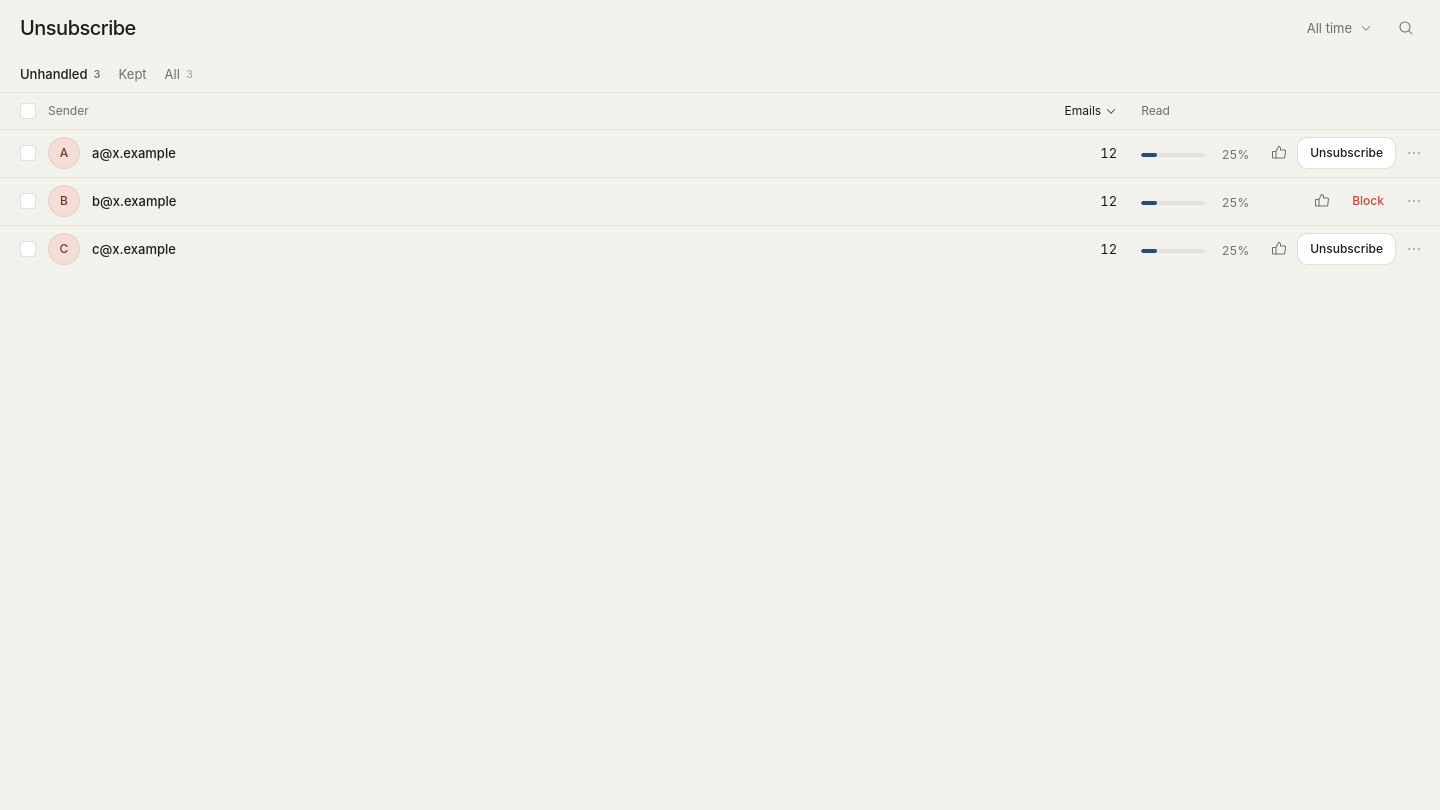
BulkUnsubscribePage › bulk-unsubscribes only the senders with a safe link, after a dialog with counts
Click the checkbox named "Select all" at (28, 111), box [20,103,36,119]
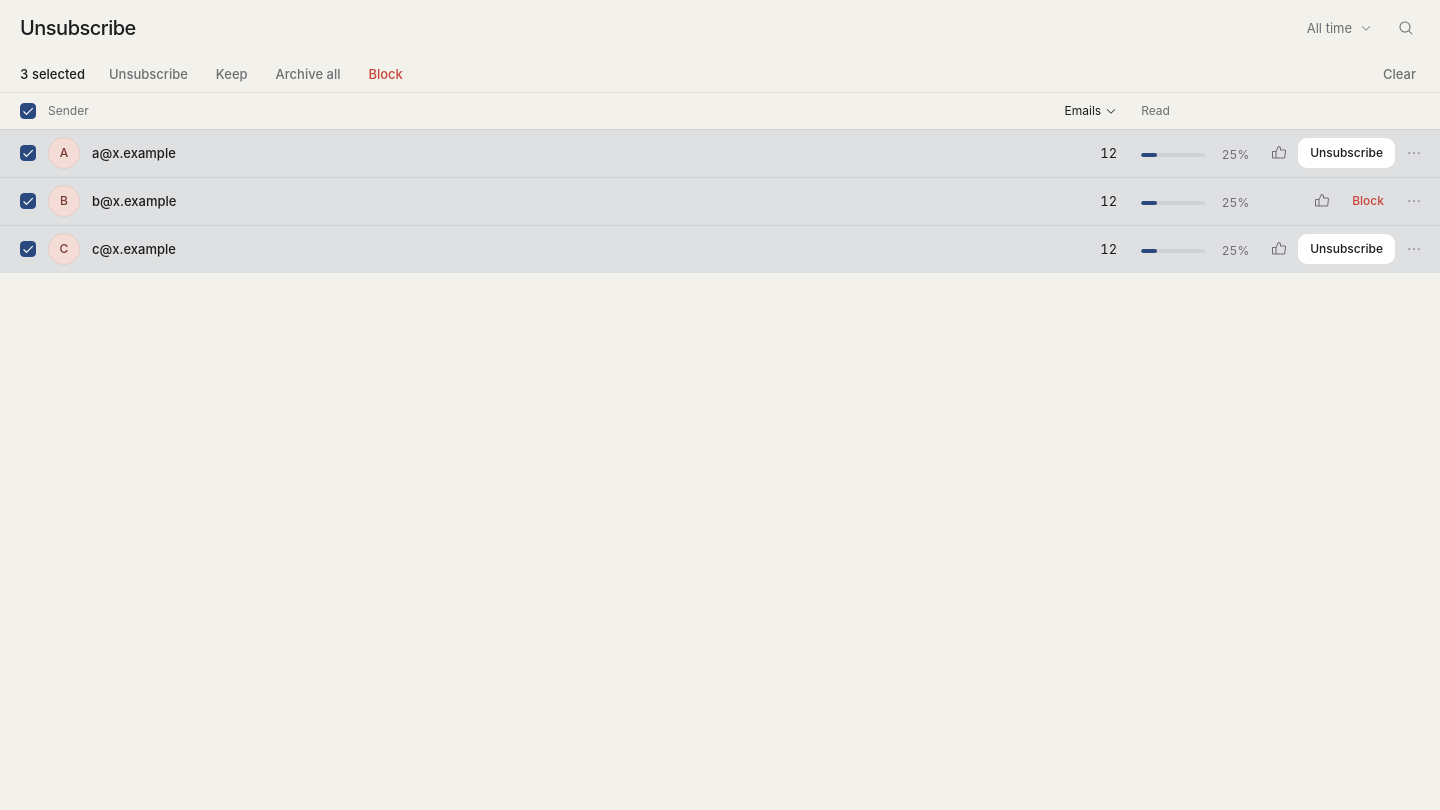
Check: the element named "Bulk actions" shows "3 selected", box [0,56,1439,92]
Click the button "Unsubscribe" next to "selected" at (148, 74), box [97,58,200,90]
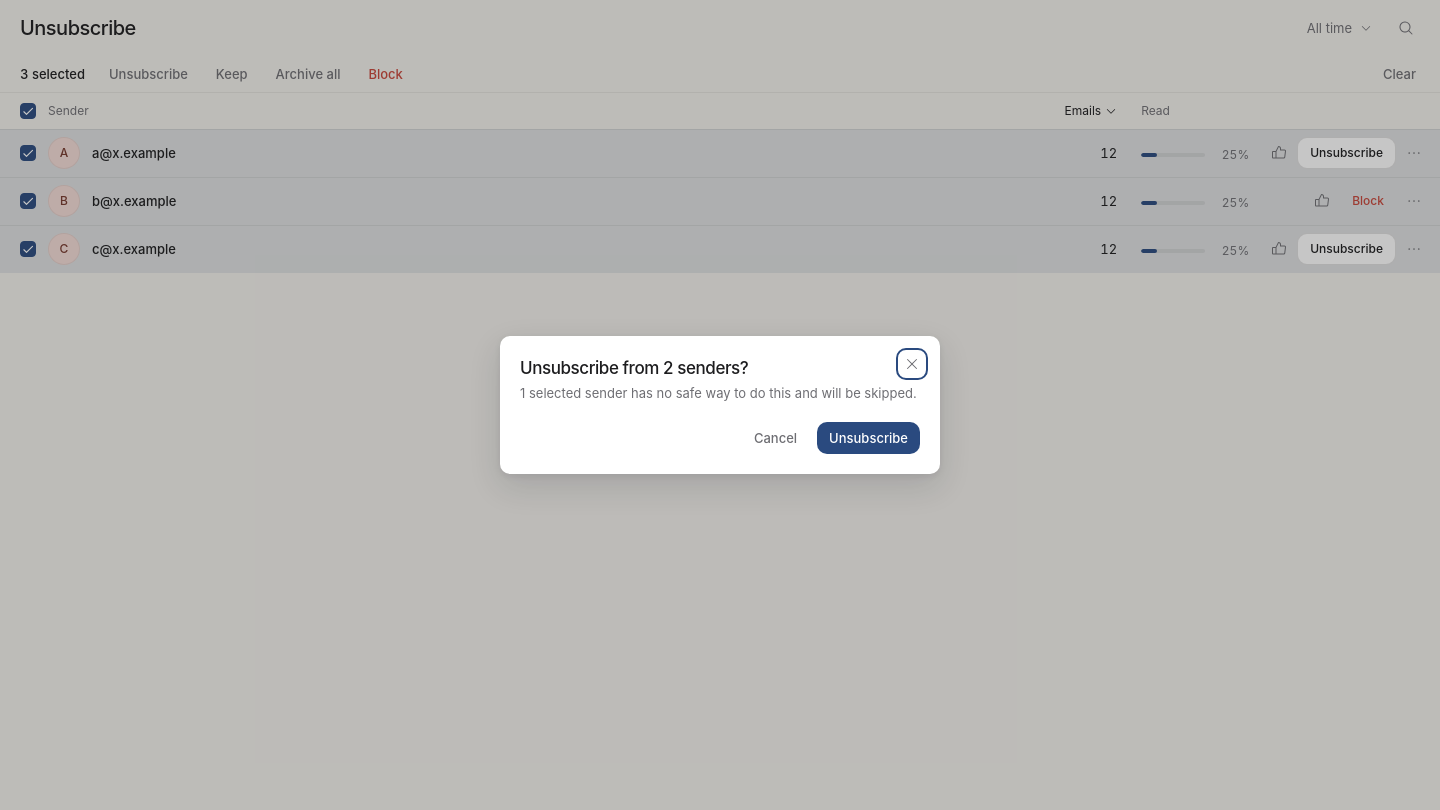
Check: the dialog shows "Unsubscribe from 2 senders?", box [520,358,748,378]
Check: the dialog shows "1 selected sender has no safe way", box [520,385,917,401]
Click the button "Unsubscribe" at (869, 438), box [817,422,920,454]
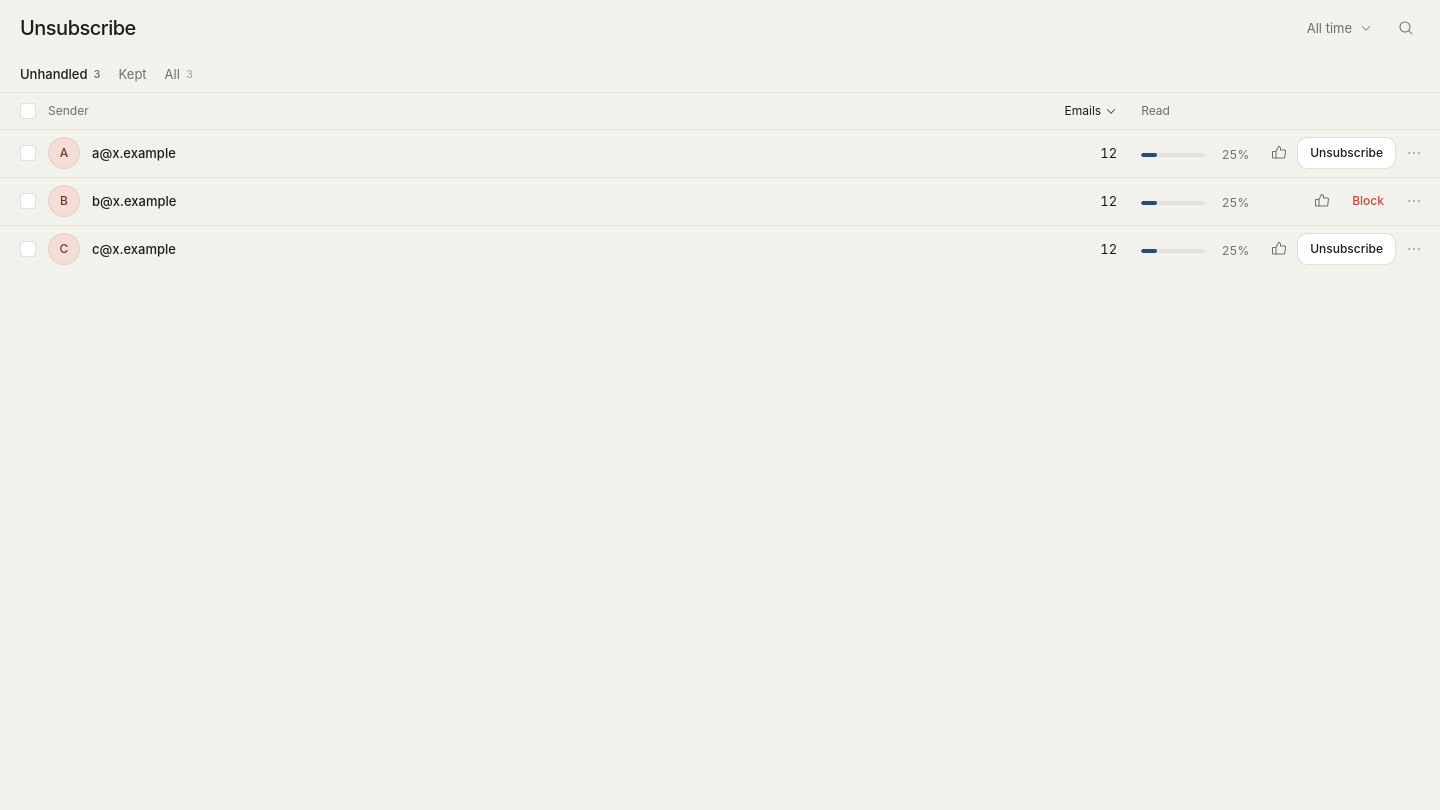
Check: the dialog is gone
